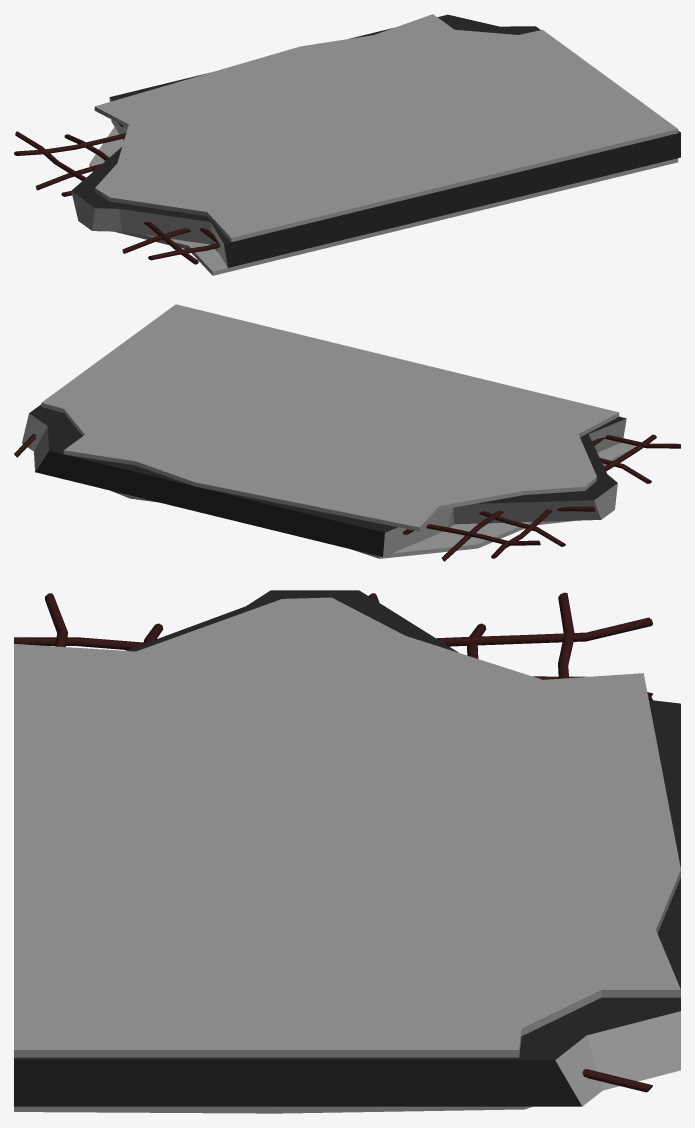
File: P_MurCasséPlaco1.fbx
3 views of the same model, one above another, from view 1: azimuth 30°, elevation 25°; view 2: azimuth 150°, elevation 25°; view 3: azimuth 270°, elevation 25° (orthographic). The views are drawn at different scales.
Visible parts, largest first — view 1: P_MurCasséPlaco1; view 2: P_MurCasséPlaco1; view 3: P_MurCasséPlaco1.
Part boxes in pixels (x1,y1,x2,y2): P_MurCasséPlaco1: (14,14,680,275); P_MurCasséPlaco1: (14,304,680,561); P_MurCasséPlaco1: (14,590,680,1113).
Bounding box in the file's own units: 657 × 39.99 × 390.
